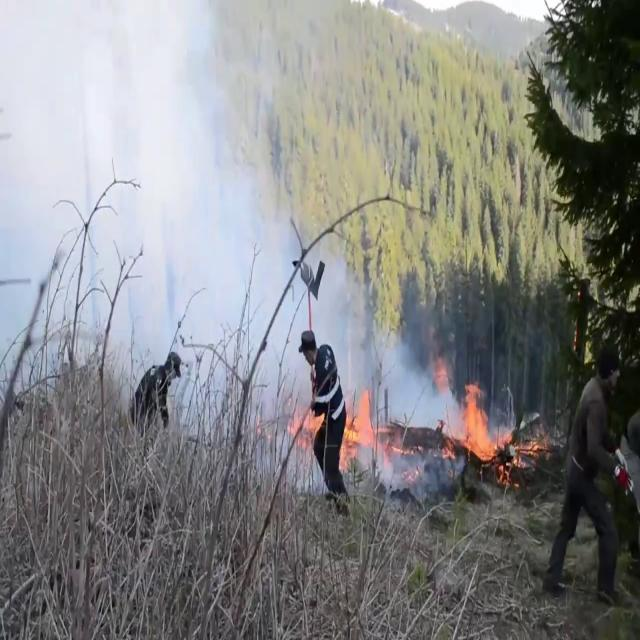Fire: (456, 374, 502, 471), (340, 374, 378, 470)
Smoke: (1, 0, 311, 444), (337, 278, 458, 438)
